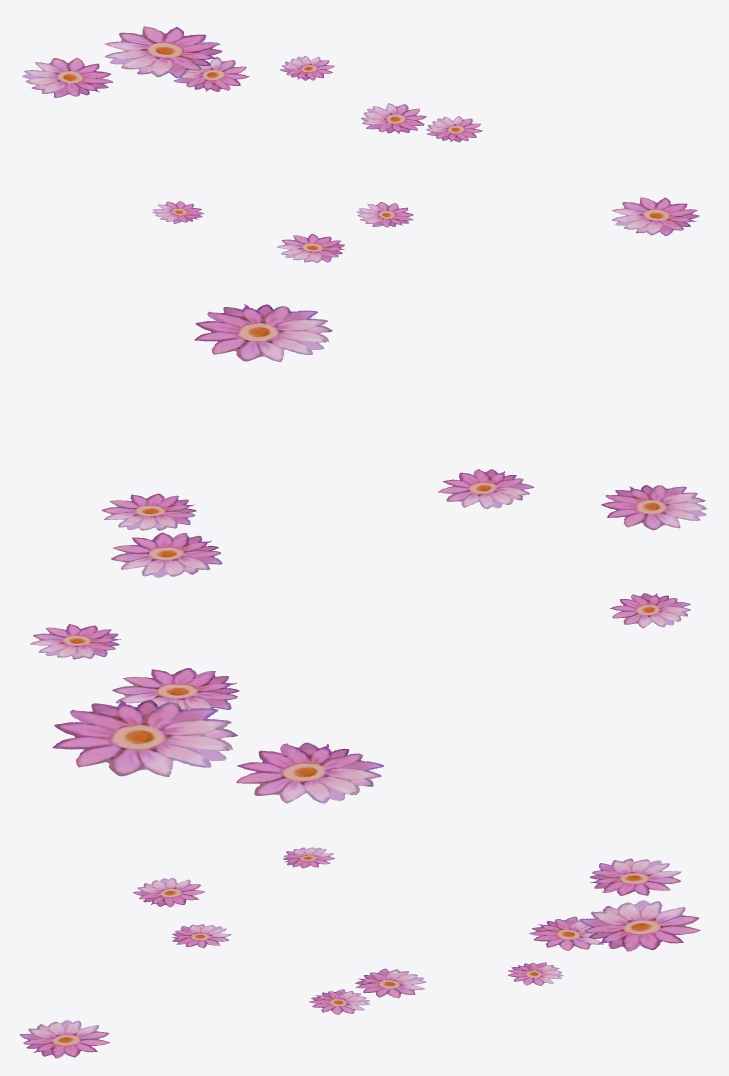
File: 110101_flower_006.FBX
3 renders of one model, top to bottom at view 1: azimuth 30°, elevation 25°; view 2: azimuth 150°, elevation 25°; view 3: azimuth 270°, elevation 25°, orthographic. The views are drawn at different scales.
Visible parts, largest first — view 1: 110101_flower_006; view 2: 110101_flower_006; view 3: 110101_flower_006.
Boxes of the visible parts, x1,y1,x2,y2 form: 110101_flower_006: [22, 26, 699, 262]; 110101_flower_006: [30, 304, 706, 803]; 110101_flower_006: [19, 847, 700, 1058].
Size of the model in its own units: 1.1 by 0.0269 by 1.53.
